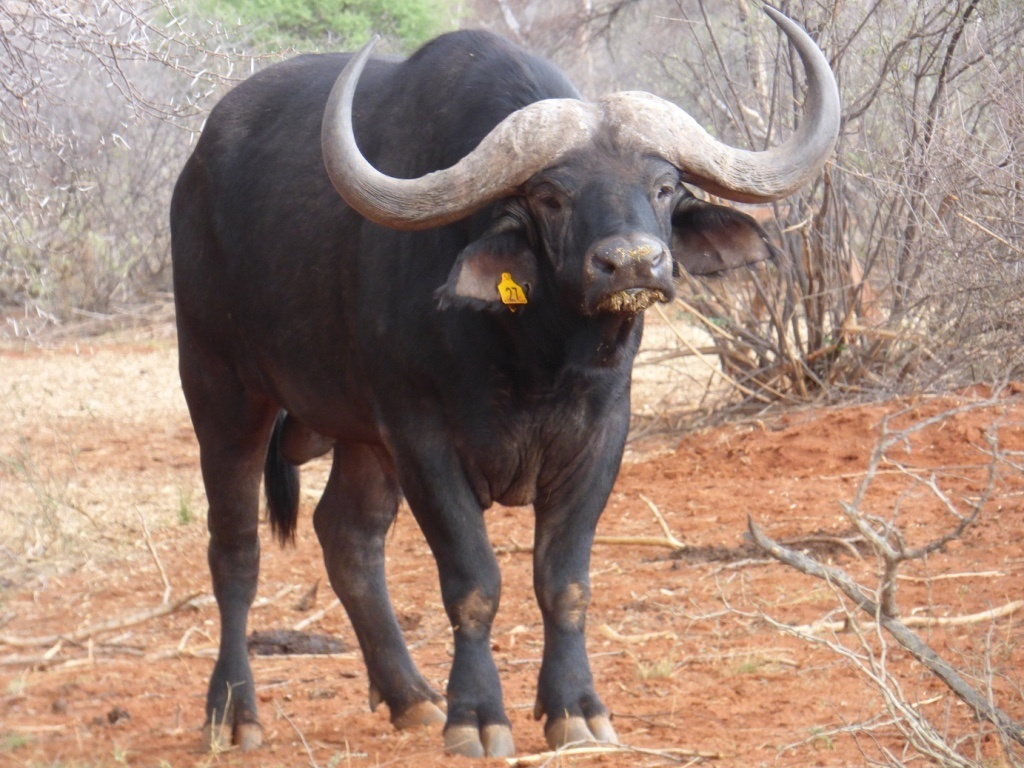buffalo: (163, 8, 842, 748)
